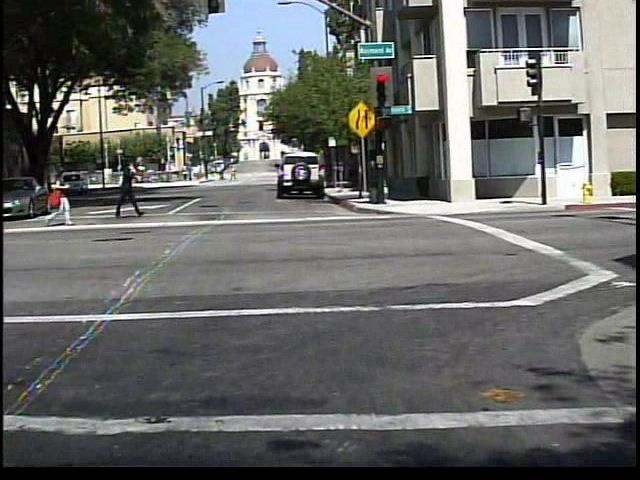person: (106, 157, 144, 222), (40, 162, 74, 229), (225, 164, 236, 185), (215, 166, 225, 185)
